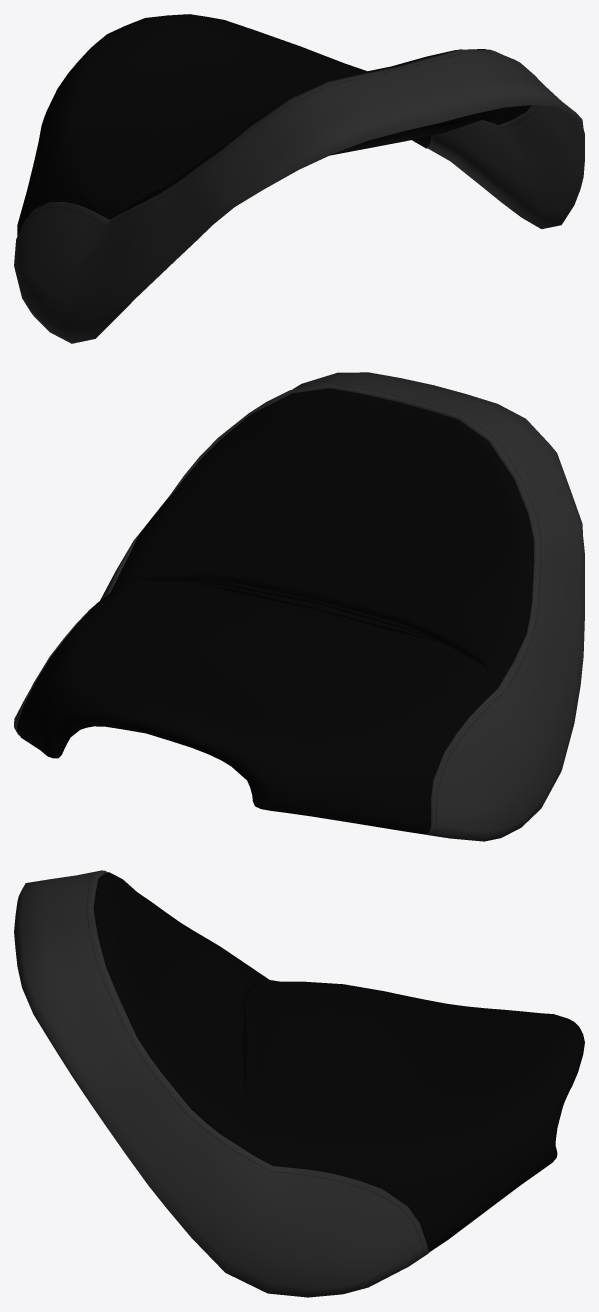
File: Seat_GEL_CARBON_1K.glb
The picture shows the model from 3 angles, top to bottom: view 1: azimuth 30°, elevation 25°; view 2: azimuth 150°, elevation 25°; view 3: azimuth 270°, elevation 25°; orthographic projection. The views are drawn at different scales.
Visible parts, largest first — view 1: Seat_Gel_CARBON_1K; view 2: Seat_Gel_CARBON_1K; view 3: Seat_Gel_CARBON_1K.
Part boxes in pixels (left/top/right/bottom): Seat_Gel_CARBON_1K: left=14, top=14, right=584, bottom=343; Seat_Gel_CARBON_1K: left=14, top=372, right=584, bottom=841; Seat_Gel_CARBON_1K: left=14, top=870, right=584, bottom=1297.
Size of the model in its own units: 0.4252 by 0.2451 by 0.4523.
Materials: 2 (2 with a texture image).
